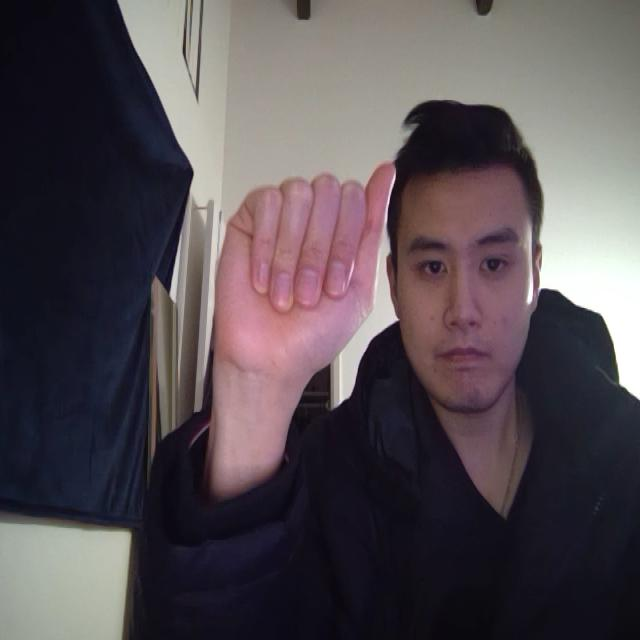A: (192, 132, 409, 464)
